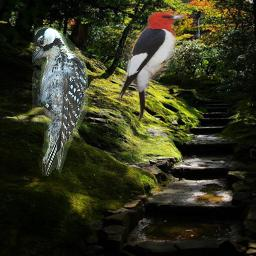Woodpecker: (32, 27, 88, 176), (118, 11, 186, 122)
